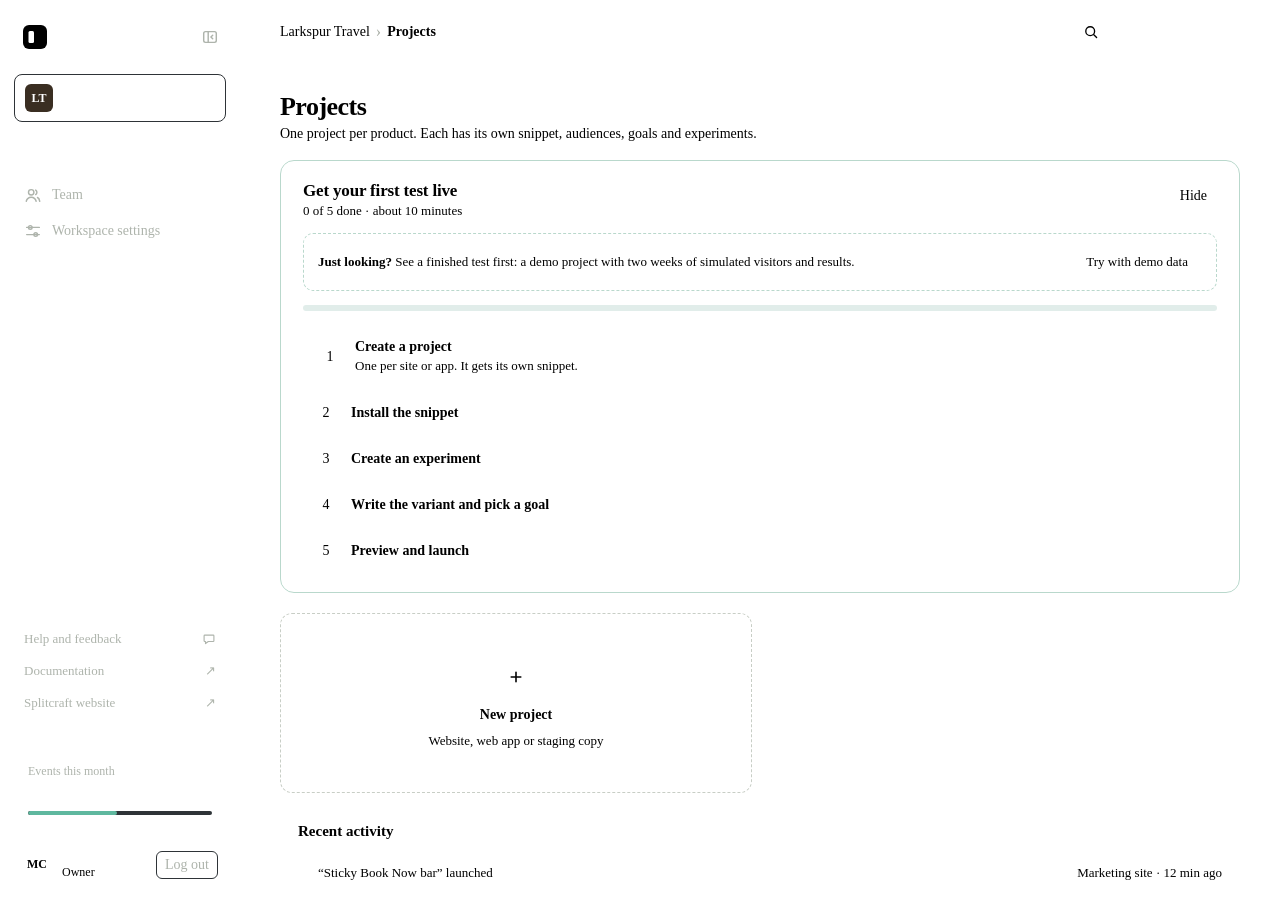
Test: demo data › creates a demo project and opens its results
This screenshot has width=1280, height=900.
Click the button "Try with demo data": (1137, 262) [1072,246,1202,278]
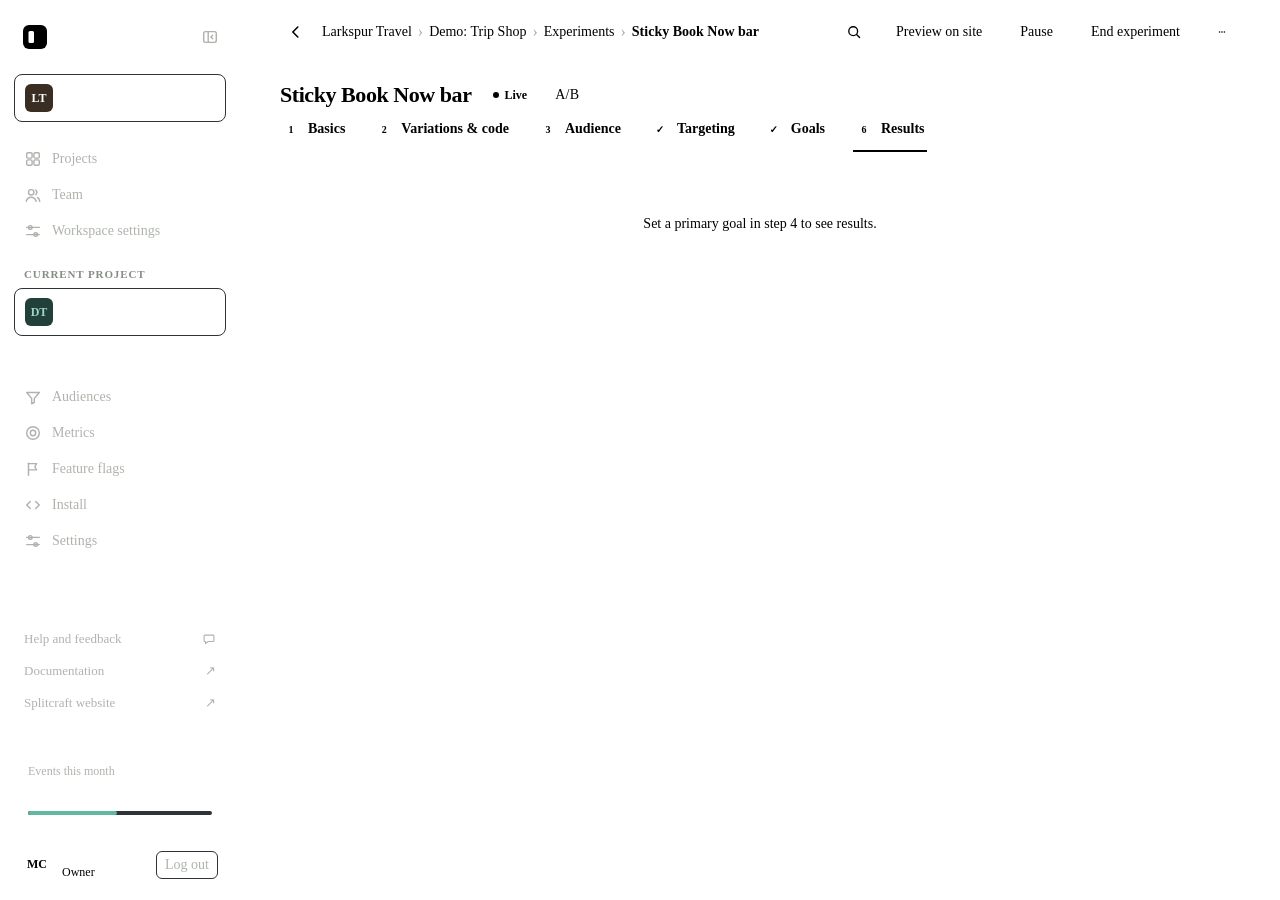
Expected: the heading "Sticky Book Now bar" is shown, [280,82,472,108]
